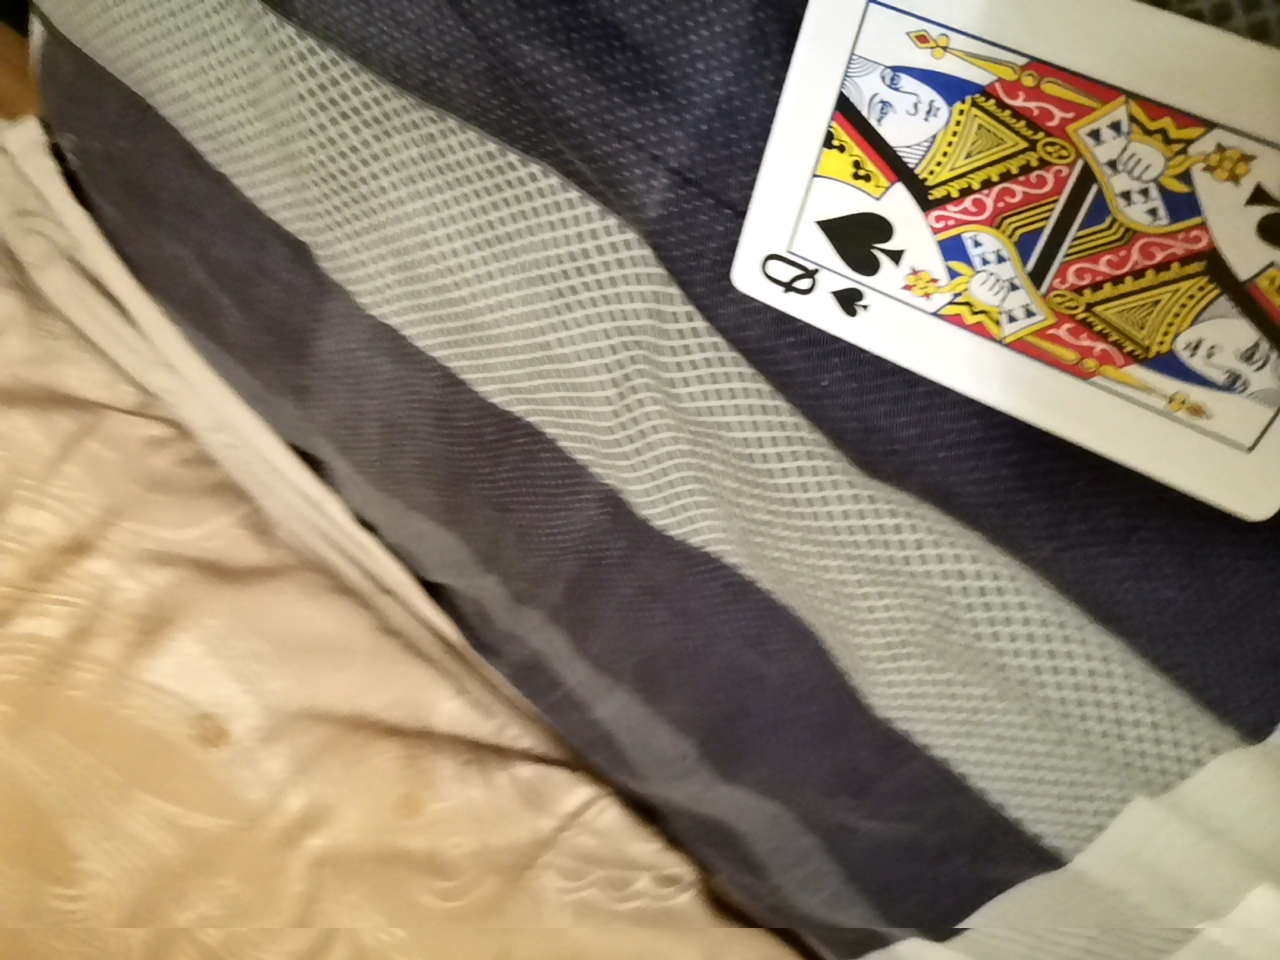ht q: (711, 4, 1276, 573)
